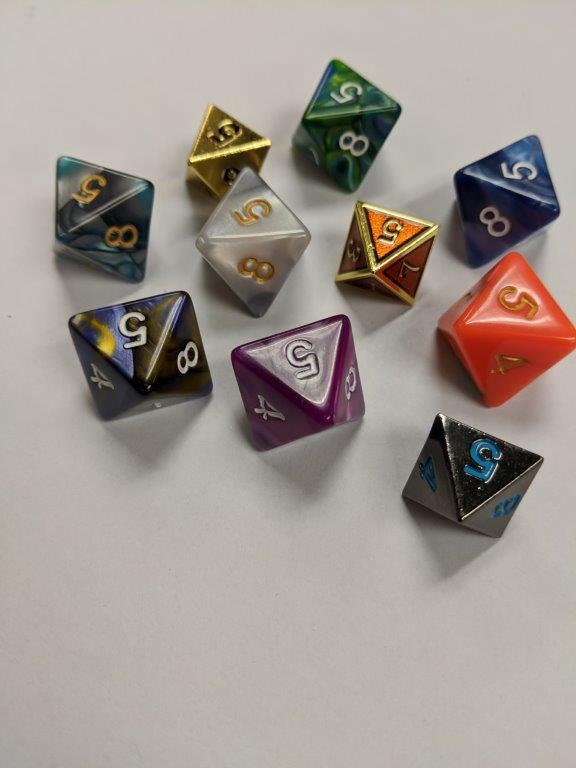d8-5: (432, 252, 576, 409), (69, 287, 213, 422), (232, 313, 365, 449), (400, 413, 542, 540), (196, 166, 312, 319), (290, 58, 404, 195), (453, 131, 563, 267), (54, 154, 156, 288), (333, 199, 438, 304), (178, 107, 270, 198)
